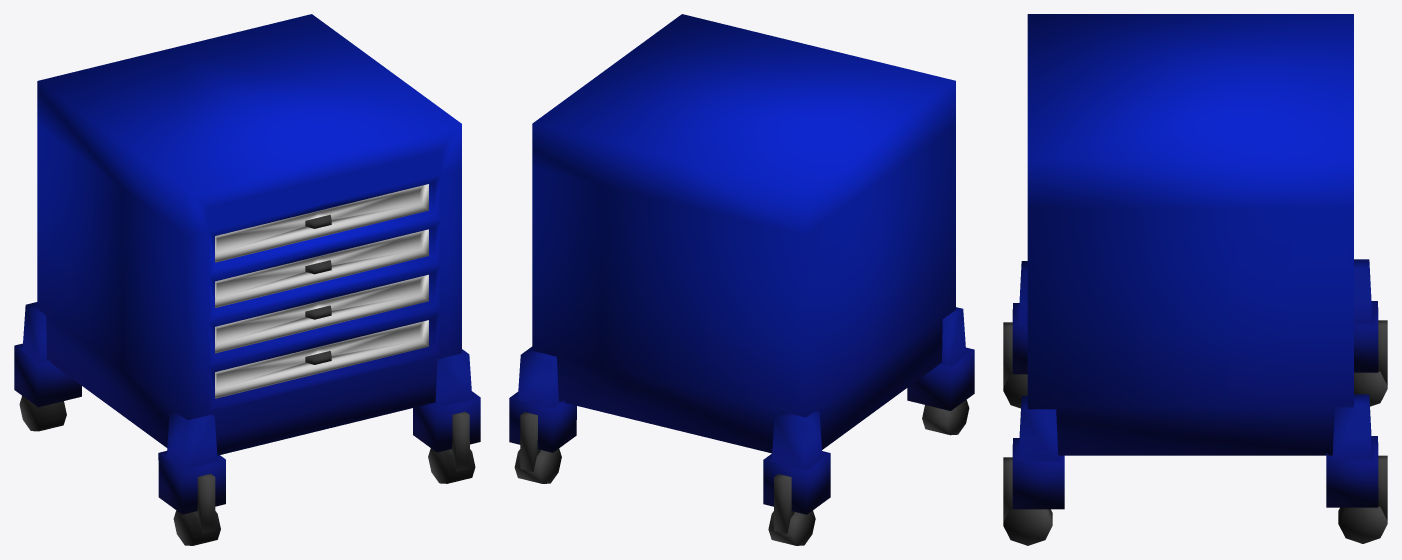
The model's file is BancadaHospitalar.fbx.
The picture shows the model from 3 angles, left to right: view 1: azimuth 30°, elevation 25°; view 2: azimuth 150°, elevation 25°; view 3: azimuth 270°, elevation 25°; orthographic projection. The views are drawn at different scales.
Visible parts, largest first — view 1: BancadaHospitalar; view 2: BancadaHospitalar; view 3: BancadaHospitalar.
Boxes of the visible parts, box(x1,y1,x2,y2) form: BancadaHospitalar: box(14, 14, 480, 545); BancadaHospitalar: box(509, 14, 974, 545); BancadaHospitalar: box(1003, 14, 1387, 545).
Bounding box in the file's own units: 54.95 × 62.34 × 56.43.
Materials: 1 (1 with a texture image).
